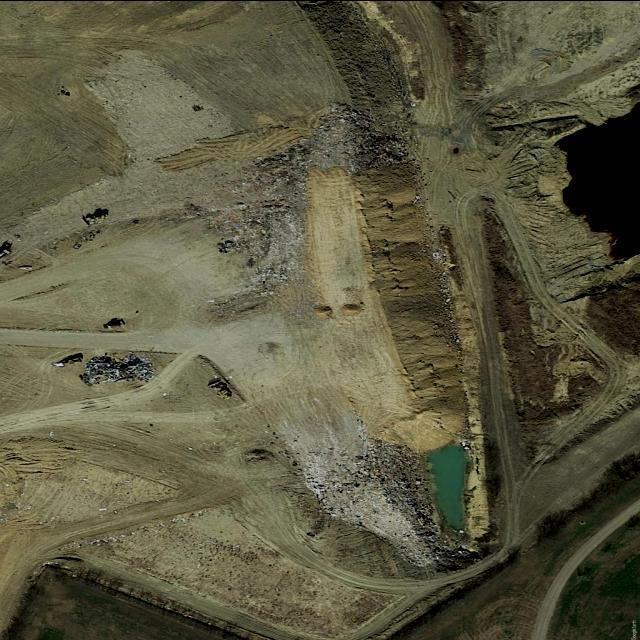dump_site: (81, 355, 157, 385)
